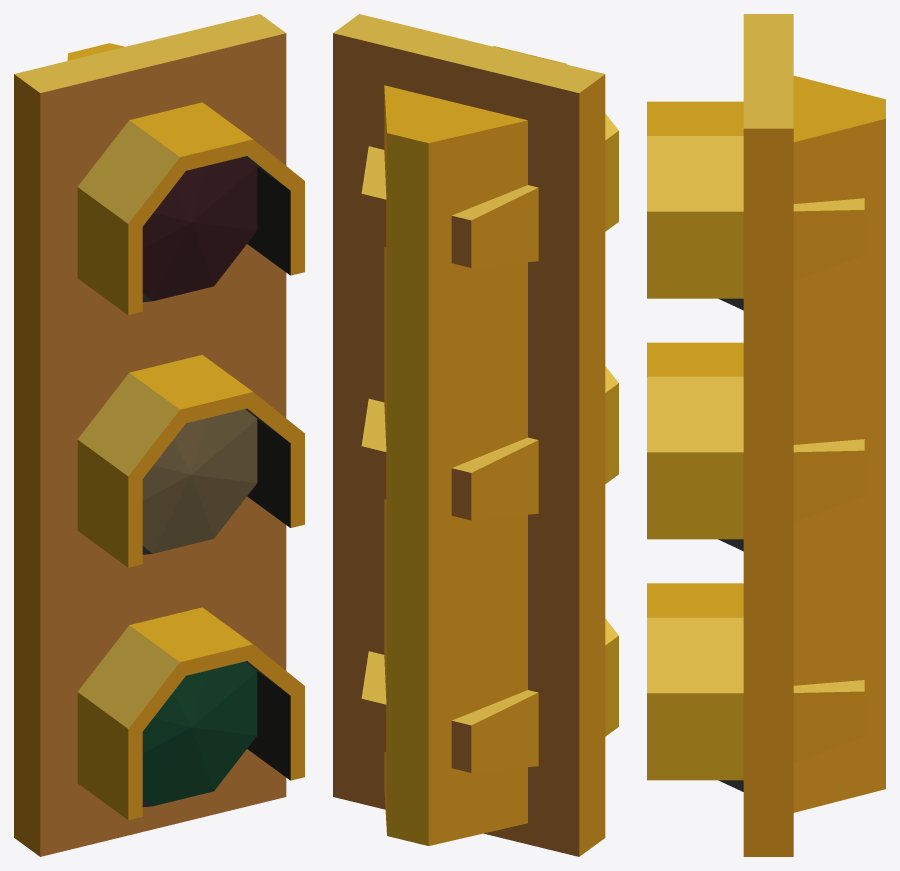
Rendered from TB_CITY_Prop_TrafficLight_B_Yellow.FBX.
3 renders of one model, left to right at view 1: azimuth 30°, elevation 25°; view 2: azimuth 150°, elevation 25°; view 3: azimuth 270°, elevation 25°, orthographic. The views are drawn at different scales.
Visible parts, largest first — view 1: TB_CITY_Prop_TrafficLight_B_Yellow; view 2: TB_CITY_Prop_TrafficLight_B_Yellow; view 3: TB_CITY_Prop_TrafficLight_B_Yellow.
Boxes of the visible parts, left/top/right/bottom form: TB_CITY_Prop_TrafficLight_B_Yellow: left=14, top=14, right=304, bottom=856; TB_CITY_Prop_TrafficLight_B_Yellow: left=333, top=14, right=618, bottom=856; TB_CITY_Prop_TrafficLight_B_Yellow: left=647, top=14, right=885, bottom=856.
Size of the model in its own units: 1.03 by 3.04 by 0.9038.
